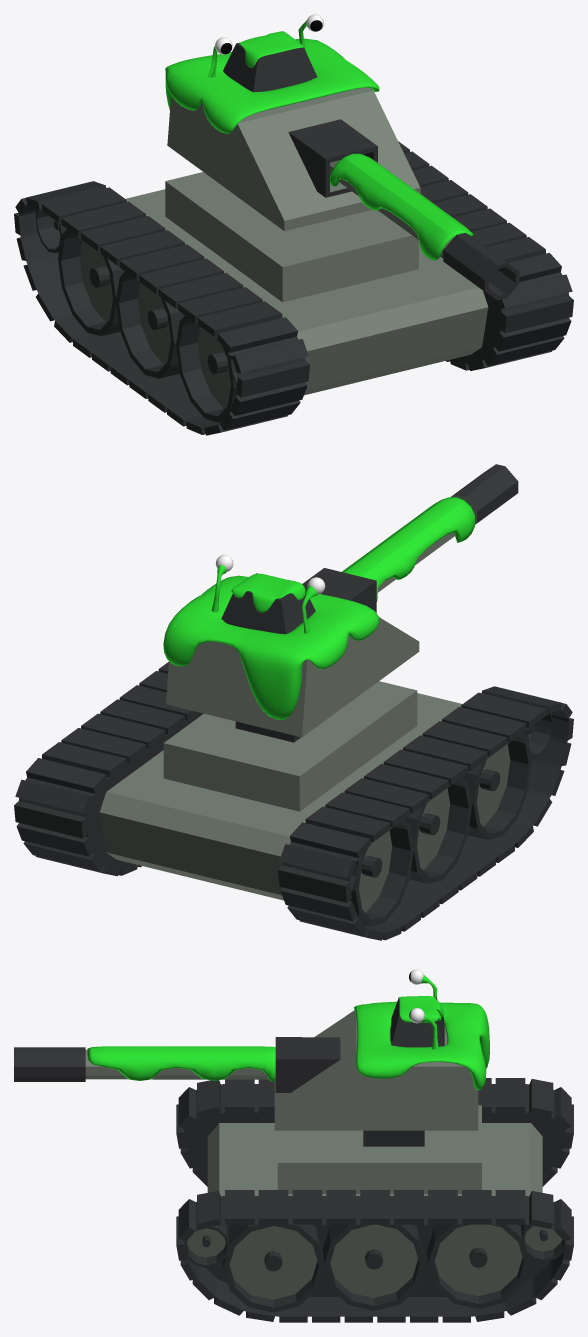
The model's file is tank_slimeal.fbx.
3 renders of one model, top to bottom at view 1: azimuth 30°, elevation 25°; view 2: azimuth 150°, elevation 25°; view 3: azimuth 270°, elevation 25°, orthographic. The views are drawn at different scales.
Parts seen in each view (by area): view 1: alt.001, üst; view 2: alt.001, üst; view 3: alt.001, üst.
Part boxes in pixels (box(x1,y1,x2,y2)): alt.001: box(14, 141, 573, 435); üst: box(165, 14, 519, 300); alt.001: box(14, 662, 573, 940); üst: box(163, 464, 518, 737); alt.001: box(176, 1078, 573, 1322); üst: box(14, 969, 489, 1130).
Size of the model in its own units: 916 by 1541 by 798.
